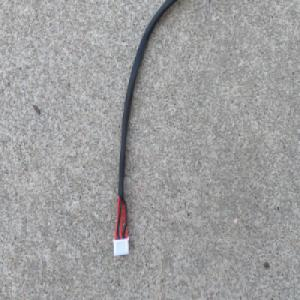Wire: (111, 0, 197, 260)
